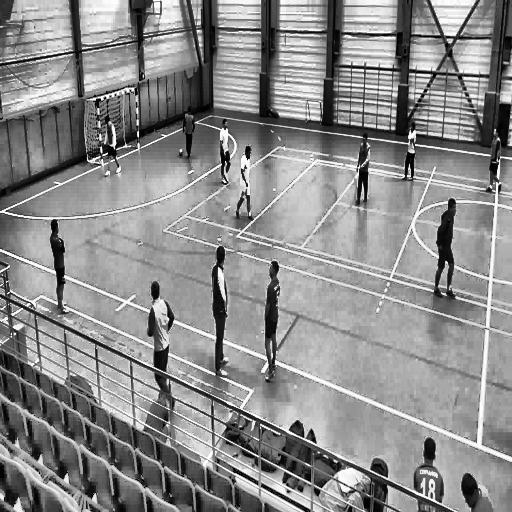ball: (178, 147, 185, 160)
player: (148, 274, 176, 416), (210, 241, 232, 390), (432, 200, 458, 304), (410, 434, 442, 512), (49, 214, 72, 321), (263, 259, 281, 387), (236, 145, 255, 225), (104, 112, 124, 181), (485, 122, 502, 202), (356, 129, 371, 212), (218, 117, 233, 190), (402, 120, 417, 185), (183, 103, 197, 161)
